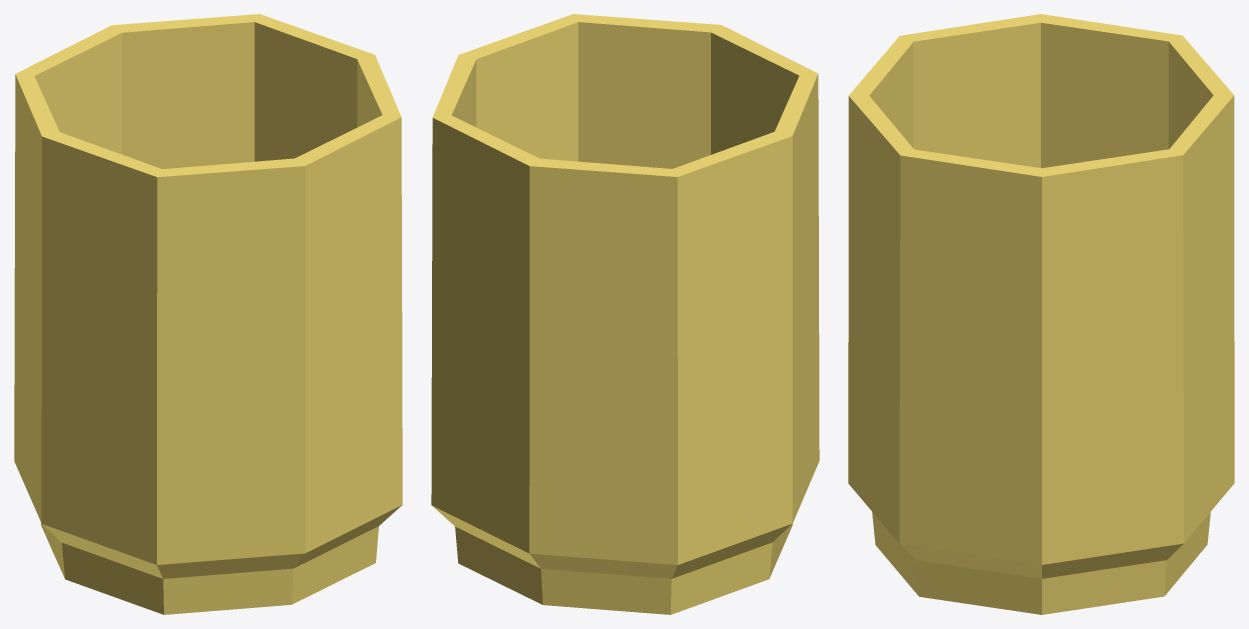
File: Kitchen_2_Glass.fbx
The picture shows the model from 3 angles, left to right: view 1: azimuth 30°, elevation 25°; view 2: azimuth 150°, elevation 25°; view 3: azimuth 270°, elevation 25°; orthographic projection.
Visible parts, largest first — view 1: Kitchen_2_Glass; view 2: Kitchen_2_Glass; view 3: Kitchen_2_Glass.
Boxes of the visible parts, box(x1,y1,x2,y2) form: Kitchen_2_Glass: box(14, 14, 402, 614); Kitchen_2_Glass: box(431, 14, 819, 614); Kitchen_2_Glass: box(848, 14, 1234, 614).
Size of the model in its own units: 12.66 by 16.26 by 12.66.
